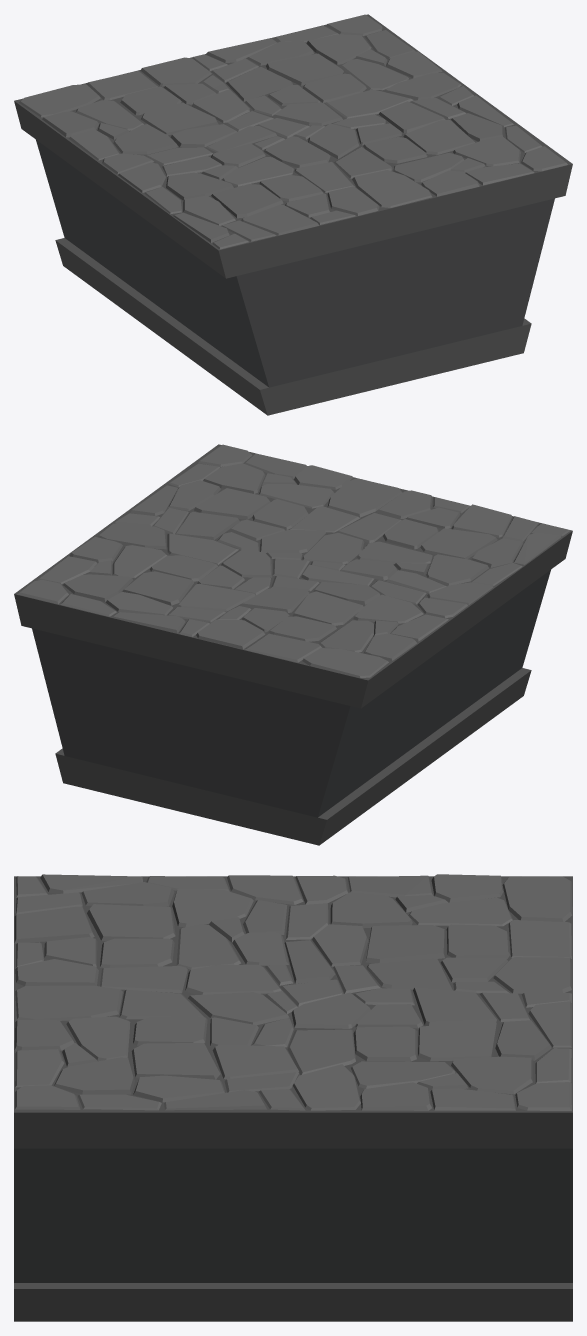
The model's file is platform_001.glb.
3 views of the same model, one above another, from view 1: azimuth 30°, elevation 25°; view 2: azimuth 150°, elevation 25°; view 3: azimuth 270°, elevation 25° (orthographic). The views are drawn at different scales.
Visible parts, largest first — view 1: platform_001; view 2: platform_001; view 3: platform_001.
Boxes of the visible parts, x1,y1,x2,y2 form: platform_001: (14,14,572,415); platform_001: (14,444,572,845); platform_001: (14,874,572,1321).
Bounding box in the file's own units: 10 × 4.86 × 10.
Materials: 1 (1 with a texture image).
